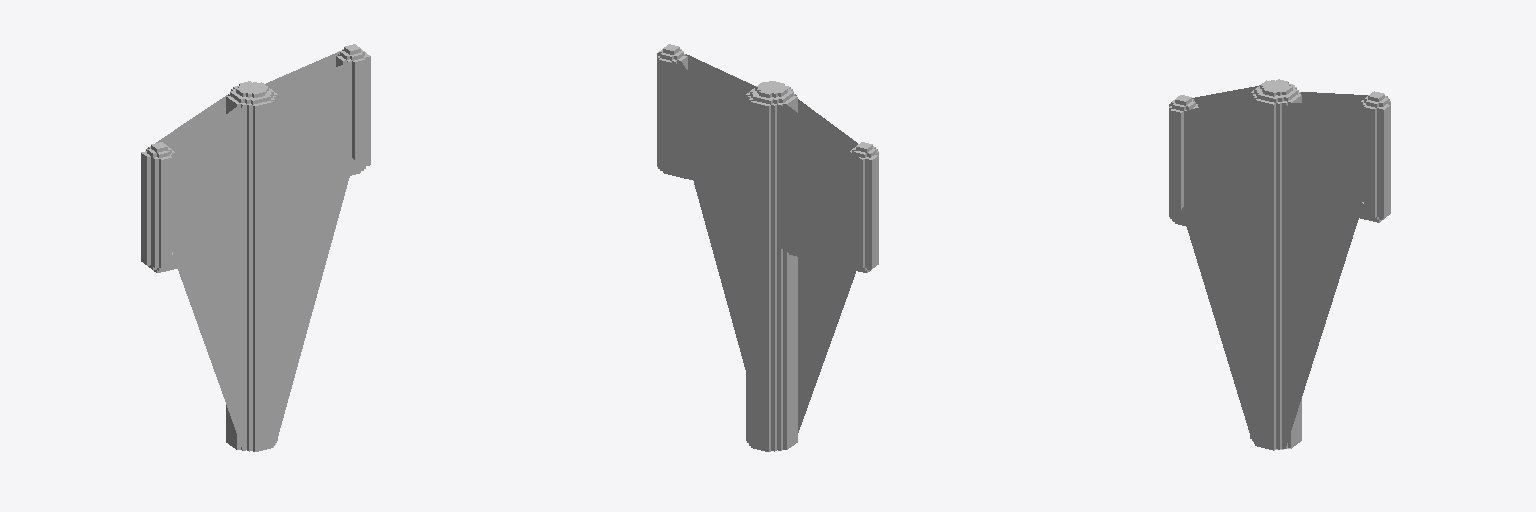
Rendered from Cactus.obj.
3 views of the same model, side by side, from view 1: azimuth 30°, elevation 25°; view 2: azimuth 150°, elevation 25°; view 3: azimuth 330°, elevation 25° (orthographic).
Parts seen in each view (by area): view 1: Cactus; view 2: Cactus; view 3: Cactus.
Boxes of the visible parts, x1,y1,x2,y2 form: Cactus: [141, 44, 370, 451]; Cactus: [657, 44, 878, 451]; Cactus: [1169, 79, 1390, 450].
Bounding box in the file's own units: 5.9 × 9.5 × 1.1.